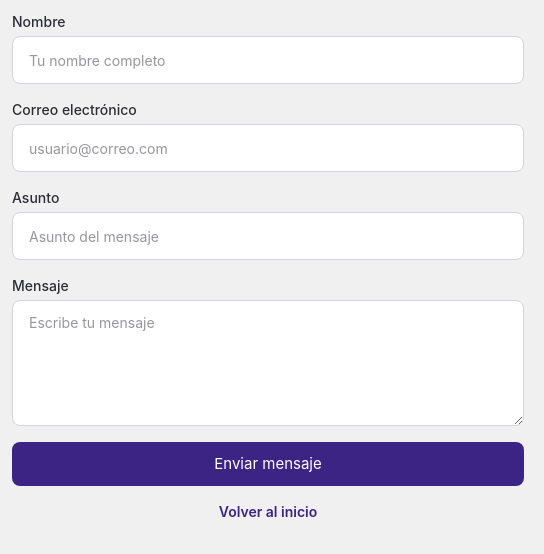
Test: FormularioContacto › valida longitud minima del mensaje
Type "Ana" into the field labelled "Nombre". click: point(268, 60)
box: [12, 36, 524, 84]
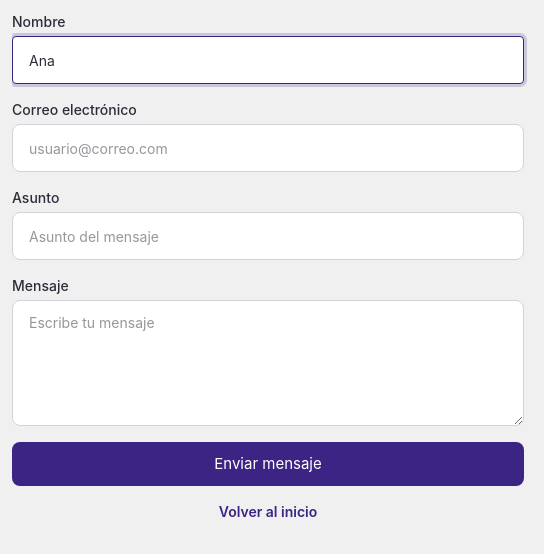
Type "ana@correo.com" into the field labelled "Correo electrónico". click: point(268, 148)
box: [12, 124, 524, 172]
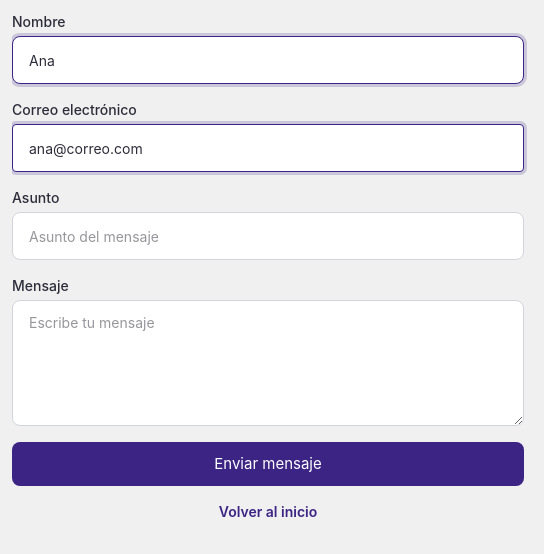
Type "Consulta" into the field labelled "Asunto". click: point(268, 236)
box: [12, 212, 524, 260]
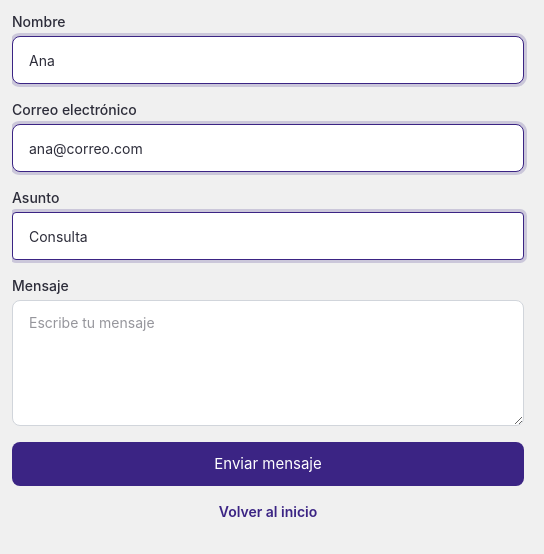
Type "corto" into the text box labelled "Mensaje". click: point(268, 363)
box: [12, 300, 524, 426]
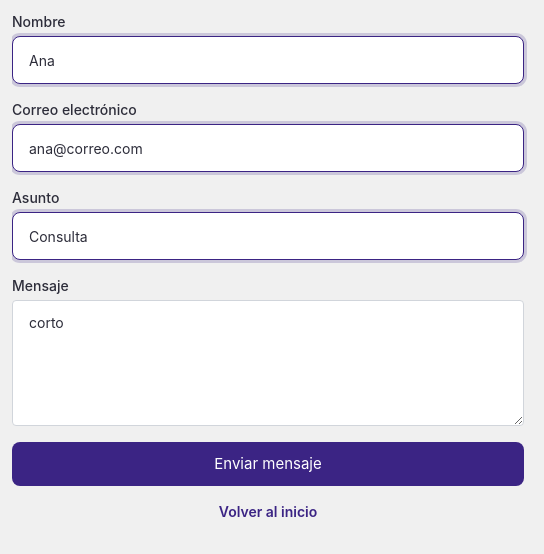
Click the button "Enviar mensaje". click: point(268, 464)
box: [12, 442, 524, 486]
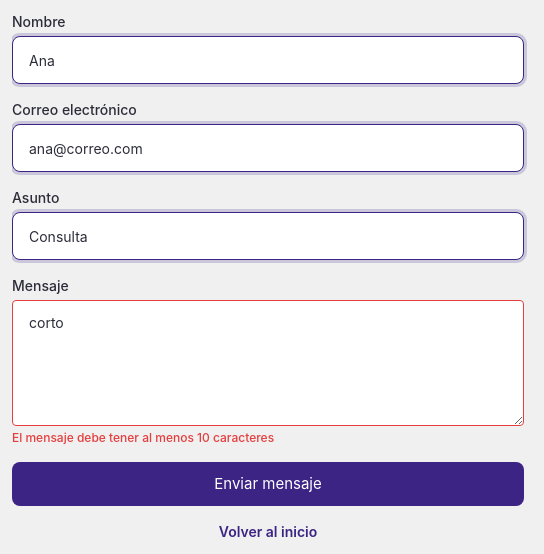
Expected: the text "El mensaje debe tener al menos 10 caracteres" is shown, [12, 430, 274, 445]
